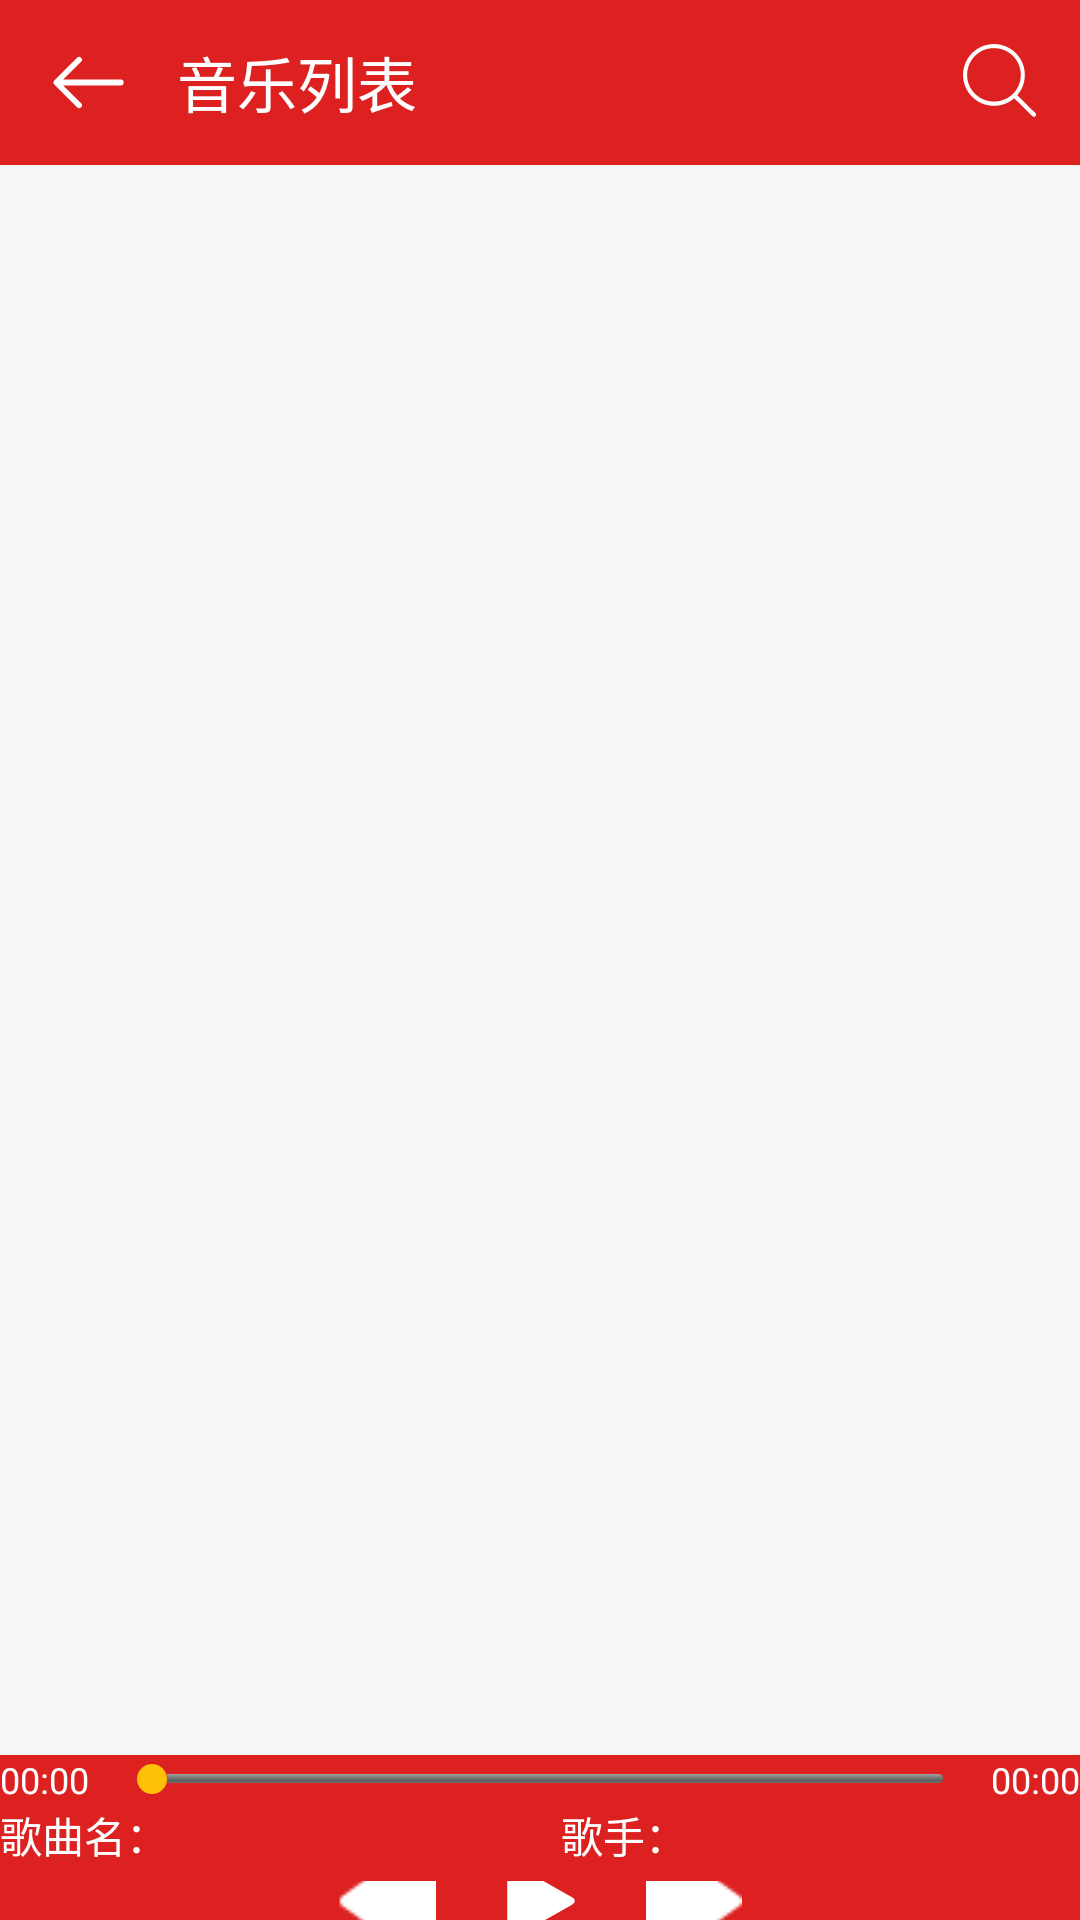

Screen size 1080×1920. Icon name, then its center in pixels as (x,y):
back: (88,82)
search: (1000,80)
